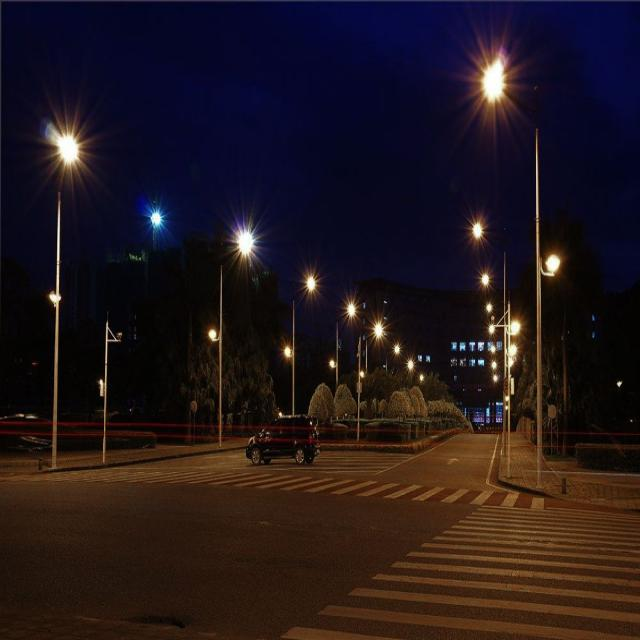Street Light: (480, 65, 544, 483), (472, 220, 512, 477), (51, 143, 80, 468), (220, 230, 252, 446), (480, 270, 507, 450), (292, 277, 316, 423), (489, 322, 508, 442), (335, 306, 357, 402), (365, 325, 383, 412)
